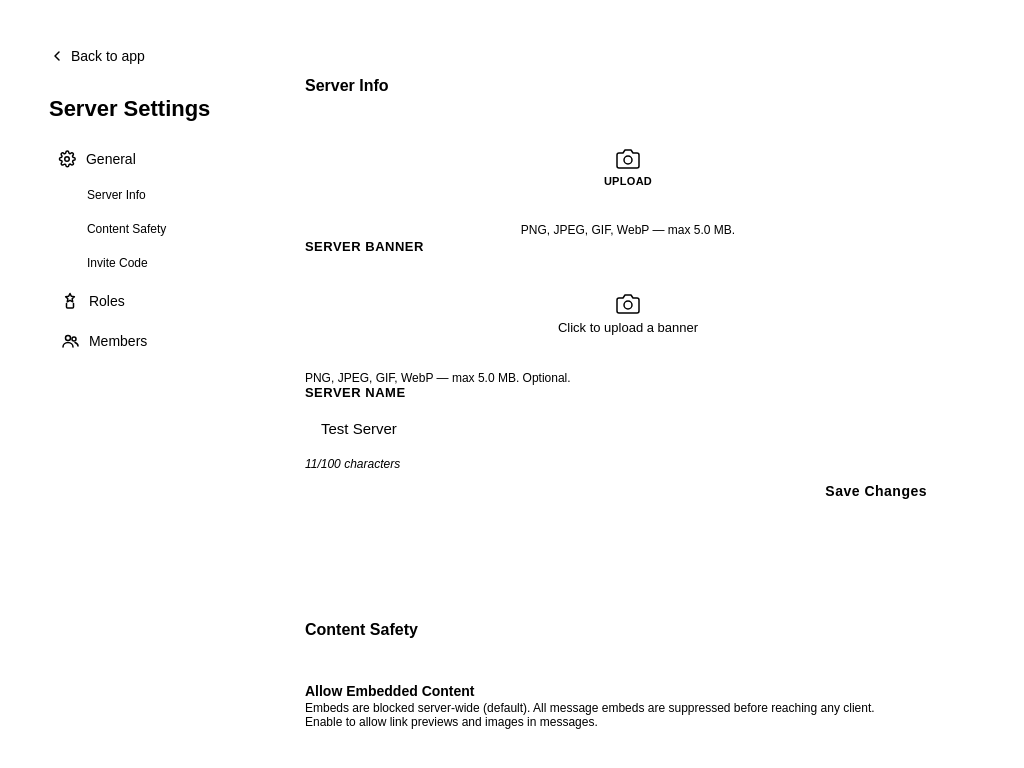
Test case: a save the server asks to verify › Cancel closes the dialog without a second send
Replace the text in the field with placeholder "My Awesome Server" with "Renamed Server" at (644, 429), box [305,408,983,449]
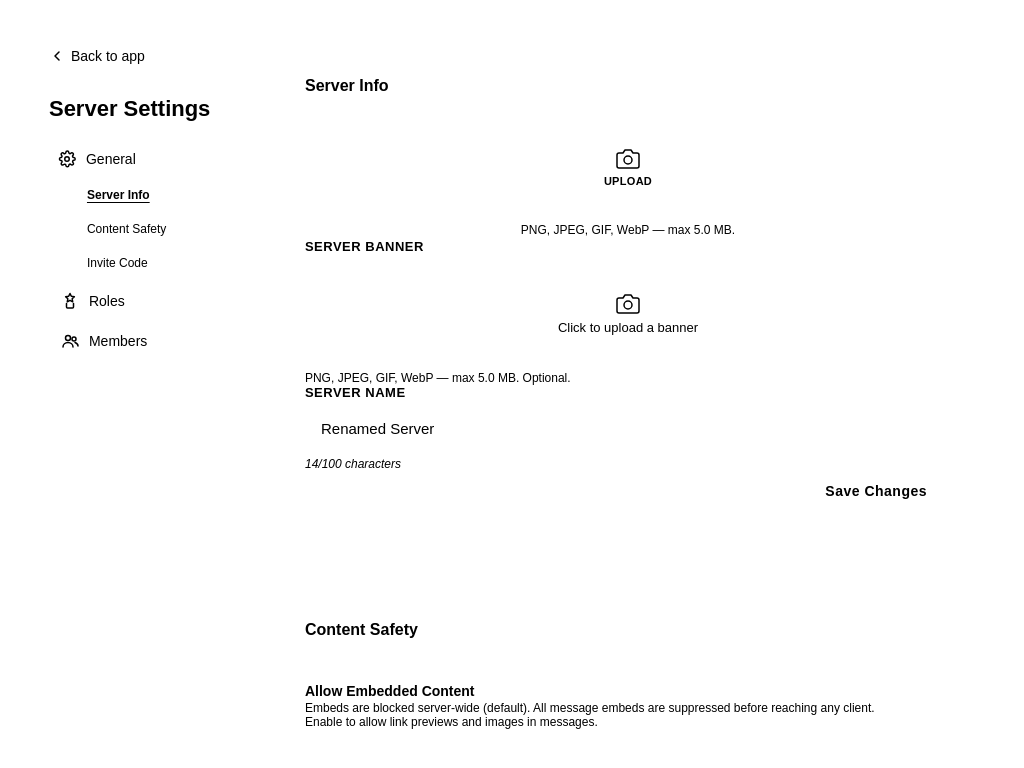
Click the button "Save Changes" at (876, 491), box [801,471,951,511]
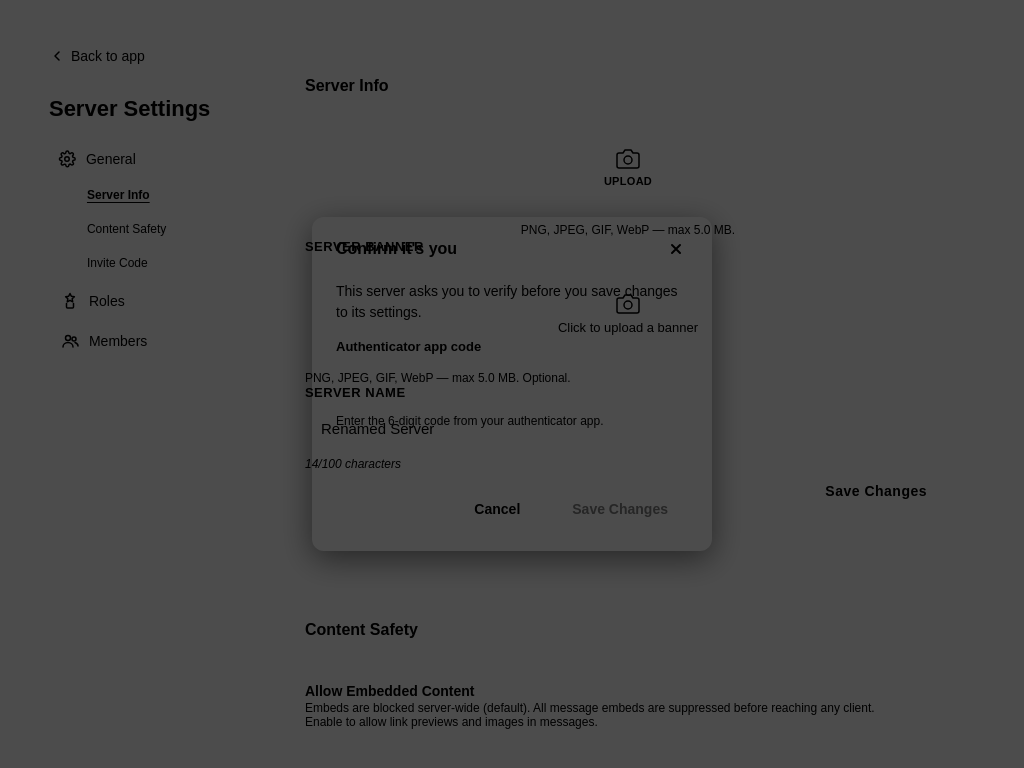
Click the button "Cancel" at (497, 509), box [454,491,540,527]
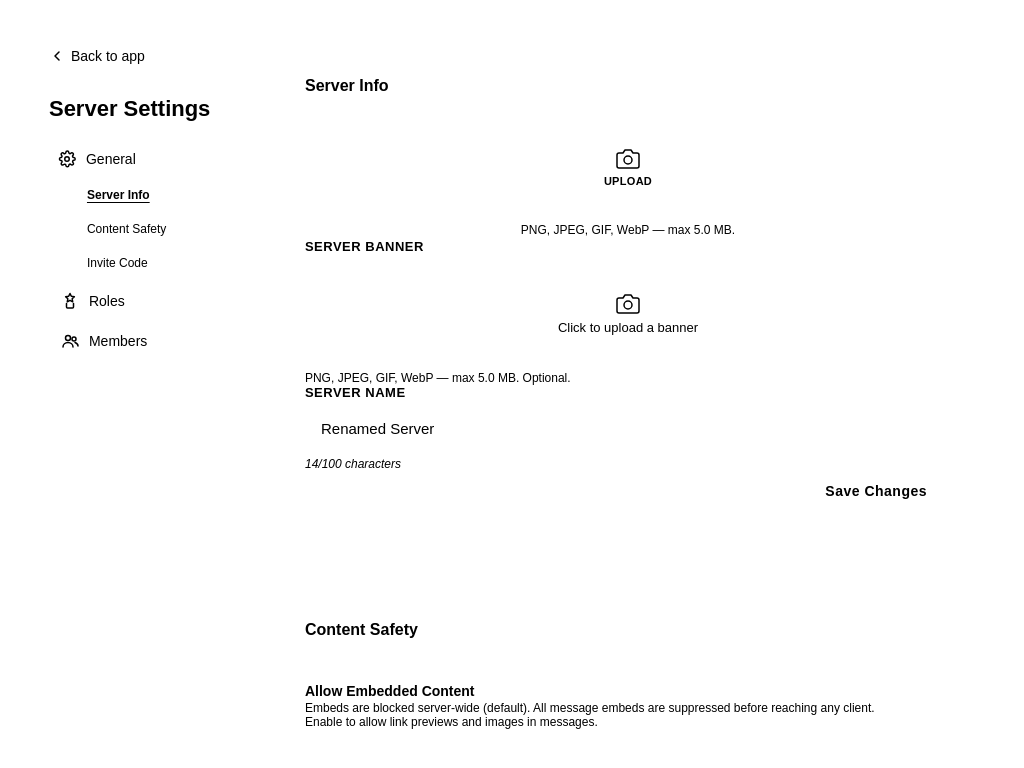
Check: the heading "Confirm it's you" is gone
